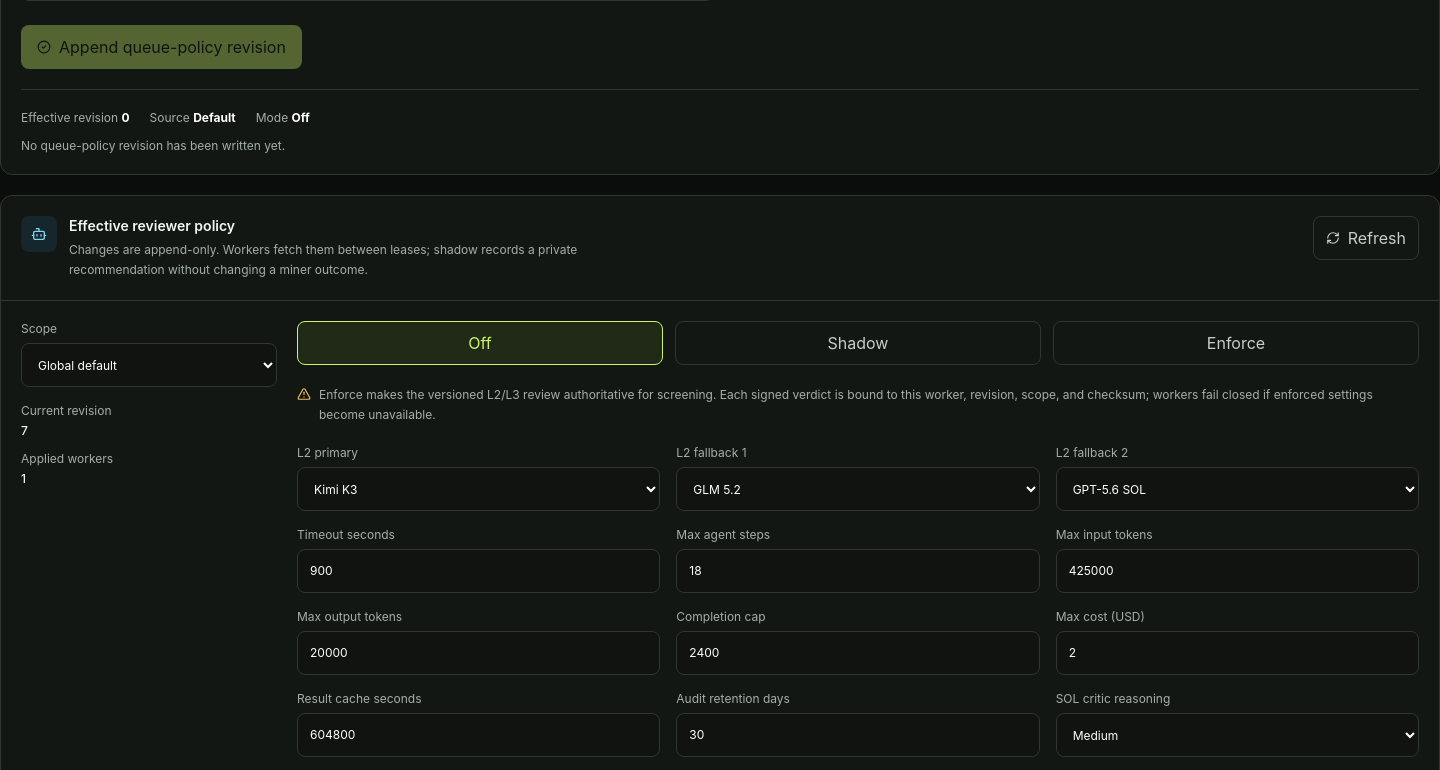
Test: ScreenerReviewControlPanel › allows enforce and exposes exact-worker inheritance
The image size is (1440, 770).
(page scrolled)
expect the button "enforce" is enabled: met, box [1053,321,1419,365]
expect the button "inherit" is not shown: met
Select "ditto-screener-prod" in the dropdown labelled "Scope" at (149, 365), box [21,343,277,387]
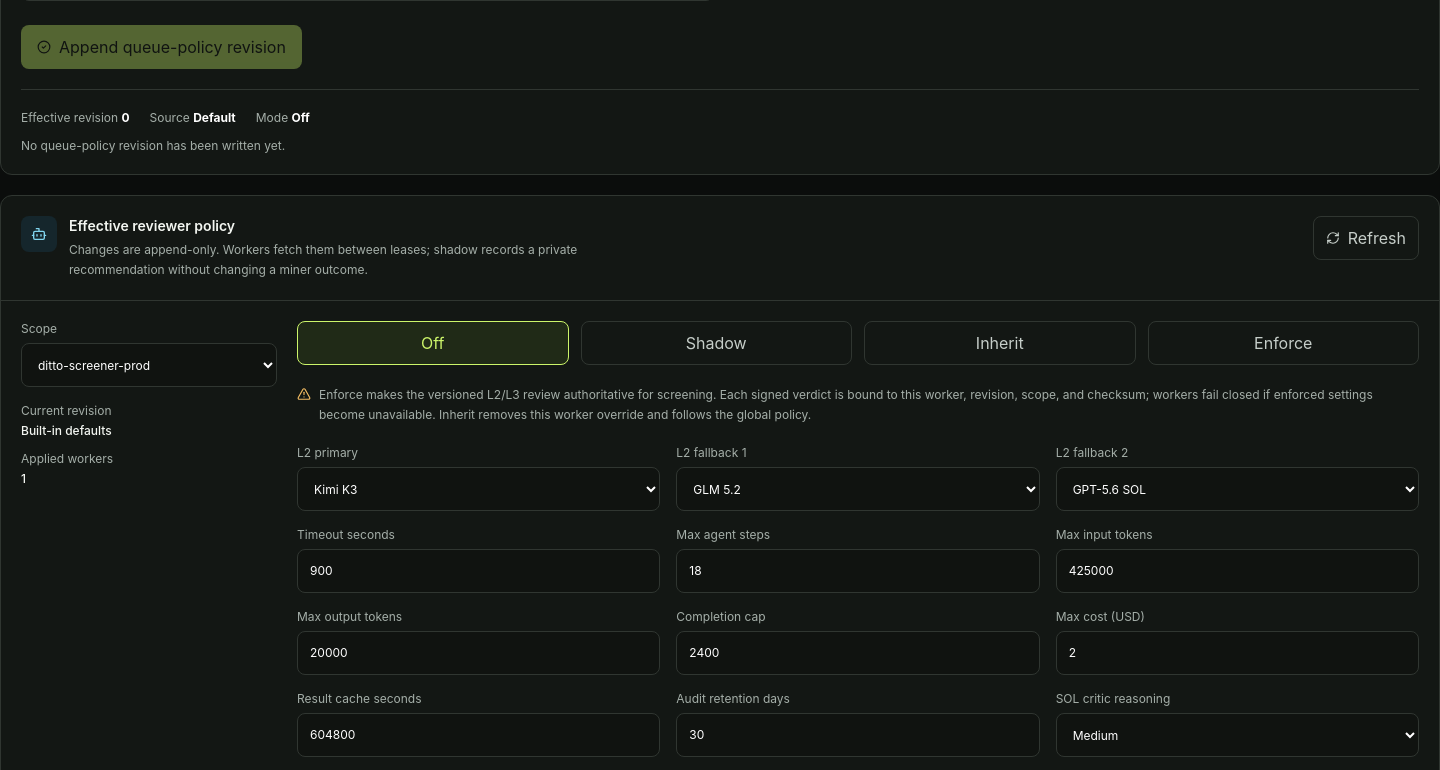
expect the button "inherit" is shown: met, box [864,321,1136,365]
